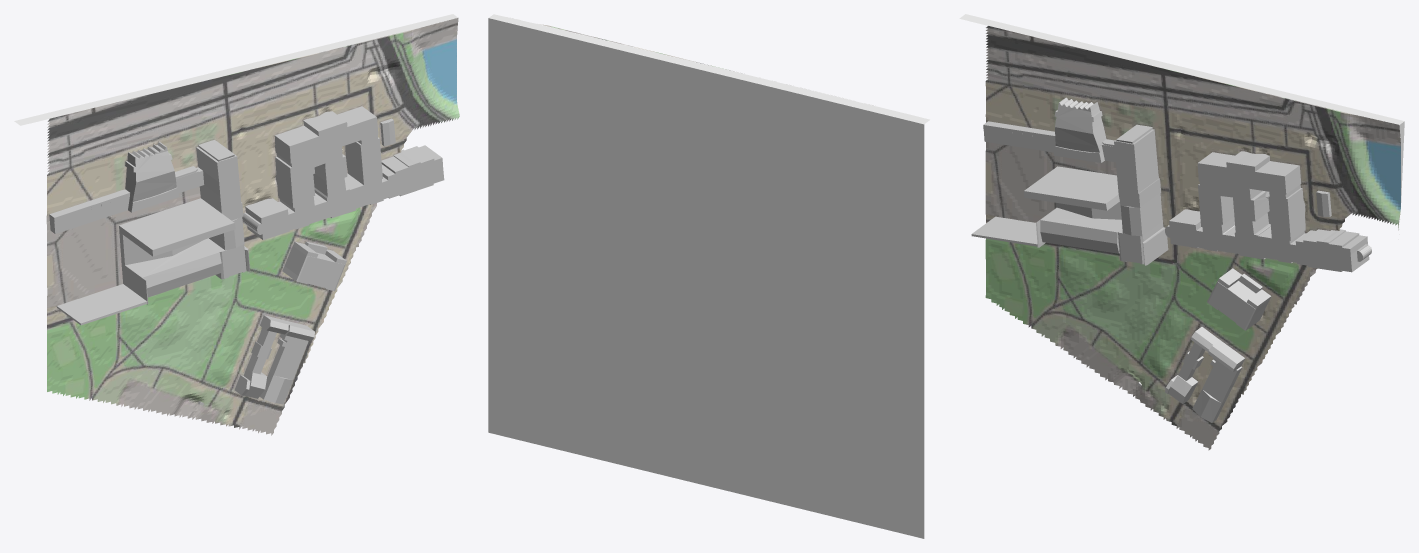
Rendered from 15a8accd-169d-46a2-8227-b8a87ddf1bad.glb.
3 views of the same model, side by side, from view 1: azimuth 30°, elevation 25°; view 2: azimuth 150°, elevation 25°; view 3: azimuth 330°, elevation 25° (orthographic).
Visible parts, largest first — view 1: terrain, buildings; view 2: terrain; view 3: terrain, buildings.
Part boxes in pixels (box(x1,y1,x2,y2)): terrain: box(14, 14, 459, 435); buildings: box(49, 106, 444, 405); terrain: box(488, 14, 929, 538); terrain: box(959, 14, 1404, 450); buildings: box(971, 97, 1371, 422).
Size of the model in its own units: 330 by 300 by 52.39.
Materials: 3 (1 with a texture image).
